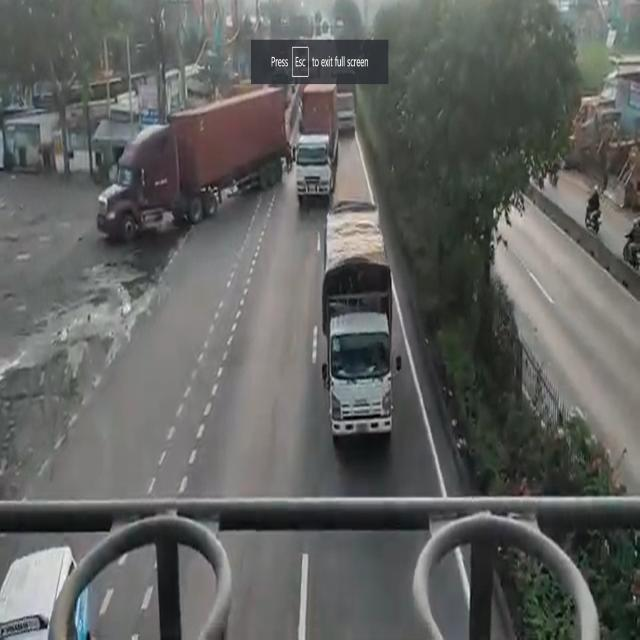truck: (101, 80, 283, 244), (323, 208, 392, 438), (296, 84, 339, 199)
